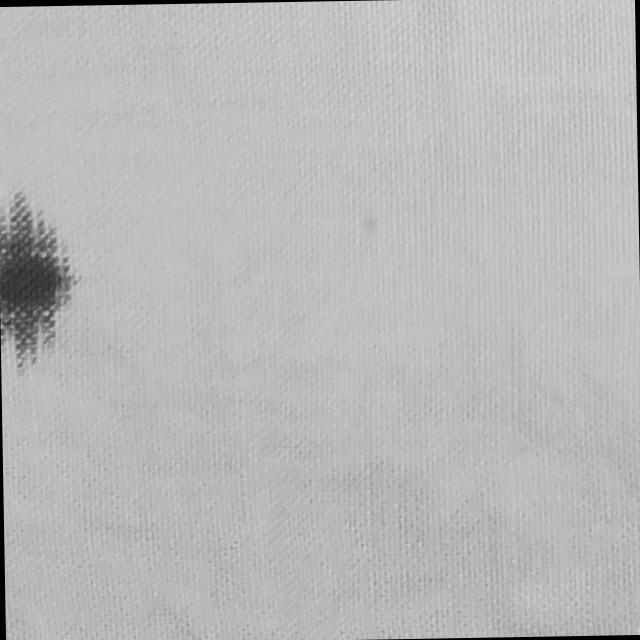Stain: (0, 196, 77, 359)
